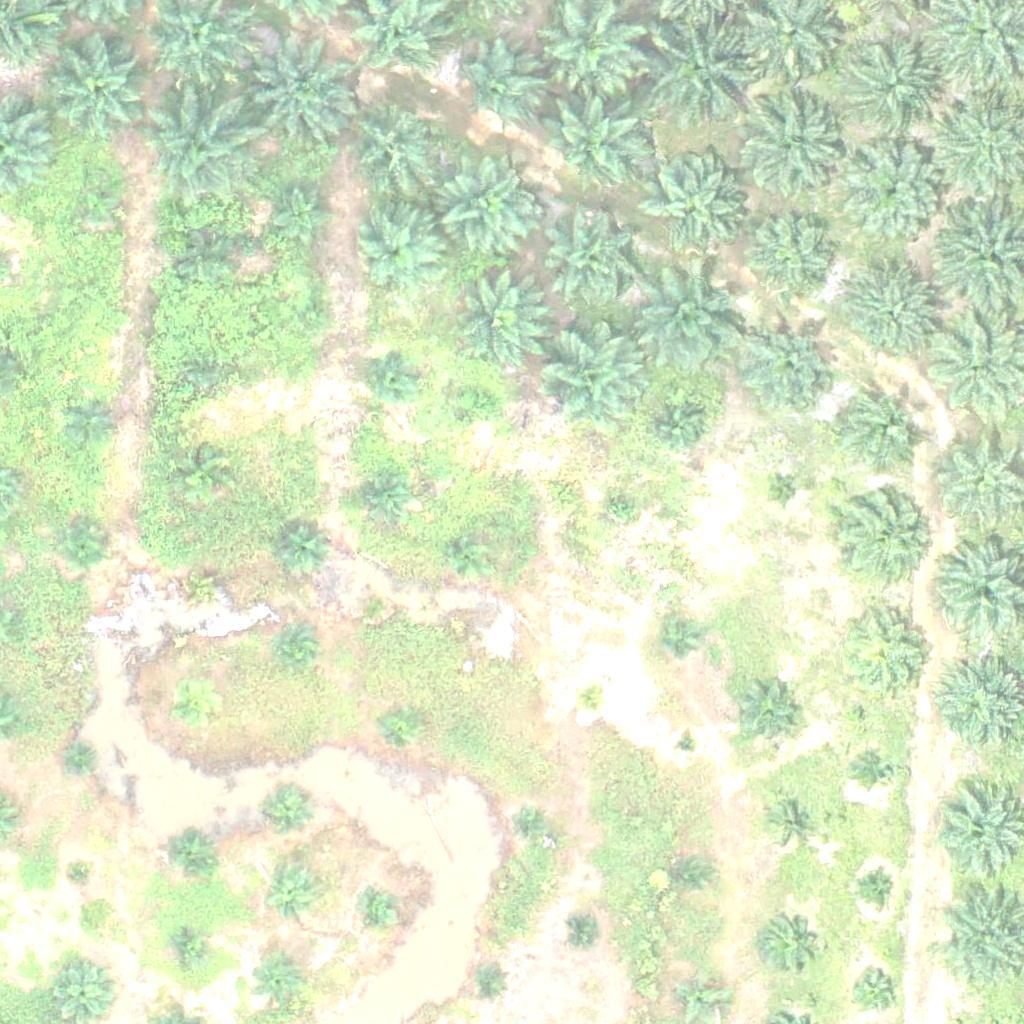Kelapa_Sawit: (245, 38, 358, 151), (645, 17, 758, 130), (636, 266, 749, 379), (140, 90, 252, 203), (543, 90, 643, 191), (438, 159, 538, 260), (342, 96, 442, 197), (48, 39, 148, 140), (644, 157, 744, 258), (741, 105, 841, 206), (845, 143, 945, 244), (841, 268, 941, 369), (830, 377, 930, 478), (832, 483, 932, 584), (837, 604, 937, 705), (543, 331, 643, 432), (446, 271, 546, 371), (458, 44, 546, 132), (545, 214, 633, 302), (848, 48, 936, 136), (356, 211, 443, 300), (745, 322, 832, 411), (744, 215, 831, 303), (732, 685, 795, 748), (49, 956, 112, 1018), (272, 179, 334, 242), (176, 448, 226, 499), (273, 528, 323, 579), (168, 685, 218, 736), (263, 786, 313, 837), (651, 399, 701, 450), (762, 915, 812, 966), (678, 972, 728, 1023), (69, 394, 119, 445), (181, 557, 231, 608), (161, 825, 211, 875), (268, 870, 318, 920), (254, 956, 304, 1006), (72, 178, 122, 228), (183, 237, 233, 287), (851, 962, 901, 1012), (357, 473, 407, 523), (370, 350, 420, 400), (668, 857, 706, 895), (62, 738, 100, 776), (460, 385, 498, 423), (451, 536, 489, 574), (603, 492, 641, 530), (765, 473, 803, 511), (571, 682, 609, 720), (173, 927, 211, 965), (862, 751, 900, 789), (66, 525, 104, 562), (361, 894, 398, 932), (856, 868, 893, 906), (774, 801, 811, 839), (568, 912, 606, 949), (189, 352, 226, 390), (294, 297, 331, 335), (655, 621, 692, 659), (352, 582, 389, 620), (63, 852, 100, 890), (278, 632, 315, 669), (466, 960, 503, 997), (383, 705, 420, 742), (514, 803, 551, 840), (674, 731, 699, 756)
